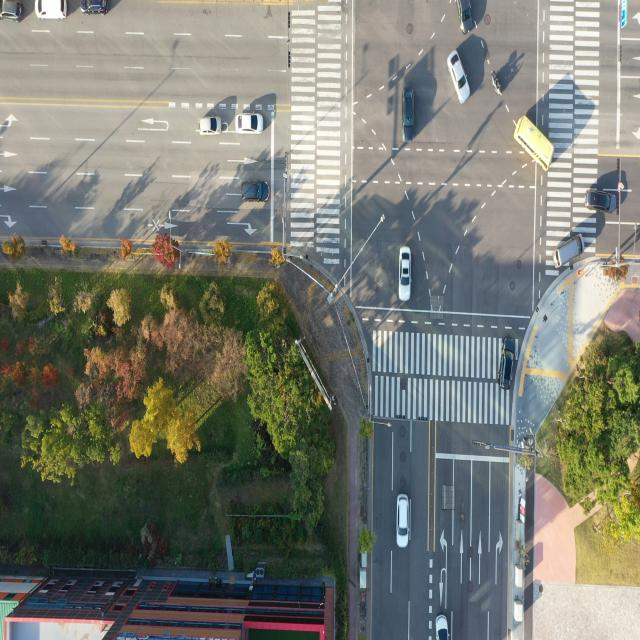car: (555, 230, 587, 273), (448, 50, 469, 100), (397, 491, 413, 548), (500, 336, 516, 392), (397, 246, 412, 304), (587, 188, 618, 214), (241, 180, 269, 203), (36, 0, 67, 20), (456, 0, 473, 33), (80, 0, 114, 16), (237, 113, 263, 133), (0, 0, 22, 22), (404, 87, 415, 129), (201, 115, 223, 134), (437, 616, 452, 640)
small_bus: (517, 116, 555, 173)
